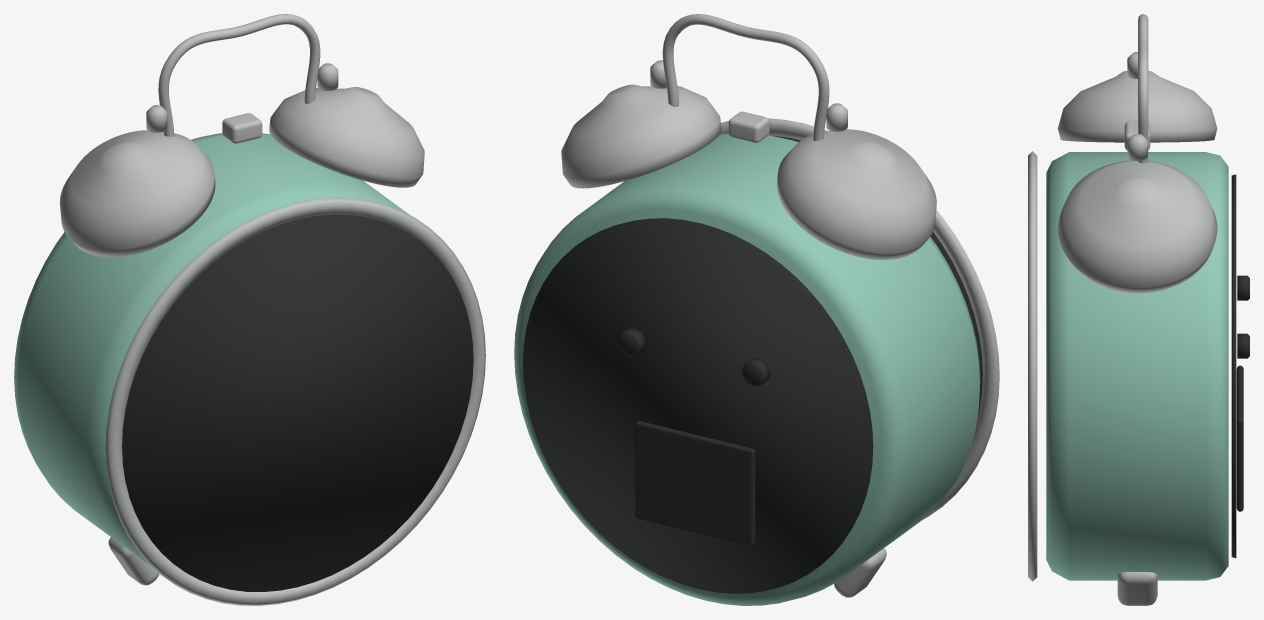
Rendered from result.glb.
The picture shows the model from 3 angles, left to right: view 1: azimuth 30°, elevation 25°; view 2: azimuth 150°, elevation 25°; view 3: azimuth 270°, elevation 25°; orthographic projection. The views are drawn at different scales.
Parts seen in each view (by area): view 1: Face, Clock body, Front rim, Bell -1, bell, Top handle, Foot -1, Top button; view 2: Rear plate, Clock body, Bell -1, Battery cover, bell, Front rim, Top handle, Foot -1, Top button, Face; view 3: Clock body, bell, Bell -1, Front rim, Rear plate, Top handle, Foot 1, Battery cover, Bell bolt 1, Rear knob -1, Rear knob 1, Top button.
Boxes of the visible parts, x1=… form: Face: x1=122, y1=214, x2=473, y2=591; Clock body: x1=14, y1=133, x2=409, y2=565; Front rim: x1=105, y1=197, x2=485, y2=605; Bell -1: x1=60, y1=130, x2=215, y2=257; bell: x1=269, y1=87, x2=424, y2=187; Top handle: x1=158, y1=14, x2=320, y2=136; Foot -1: x1=108, y1=537, x2=159, y2=585; Top button: x1=222, y1=113, x2=262, y2=143; Rear plate: x1=523, y1=218, x2=873, y2=593; Clock body: x1=514, y1=133, x2=980, y2=605; Bell -1: x1=776, y1=129, x2=936, y2=259; Battery cover: x1=635, y1=421, x2=755, y2=546; bell: x1=561, y1=84, x2=721, y2=188; Front rim: x1=719, y1=118, x2=999, y2=519; Top handle: x1=662, y1=14, x2=829, y2=140; Foot -1: x1=834, y1=548, x2=886, y2=597; Top button: x1=728, y1=111, x2=769, y2=142; Face: x1=773, y1=136, x2=982, y2=416; Clock body: x1=1046, y1=152, x2=1228, y2=580; bell: x1=1057, y1=160, x2=1217, y2=293; Bell -1: x1=1057, y1=71, x2=1217, y2=142; Front rim: x1=1028, y1=151, x2=1037, y2=581; Rear plate: x1=1231, y1=174, x2=1236, y2=557; Top handle: x1=1138, y1=14, x2=1148, y2=163; Foot 1: x1=1117, y1=572, x2=1157, y2=605; Battery cover: x1=1236, y1=365, x2=1243, y2=511; Bell bolt 1: x1=1127, y1=133, x2=1147, y2=160; Rear knob -1: x1=1237, y1=275, x2=1249, y2=300; Rear knob 1: x1=1237, y1=333, x2=1249, y2=358; Top button: x1=1124, y1=121, x2=1150, y2=150.
Bounding box in the file's own units: 0.756 × 1.02 × 0.389.
Materials: 15 (15 with a texture image).
